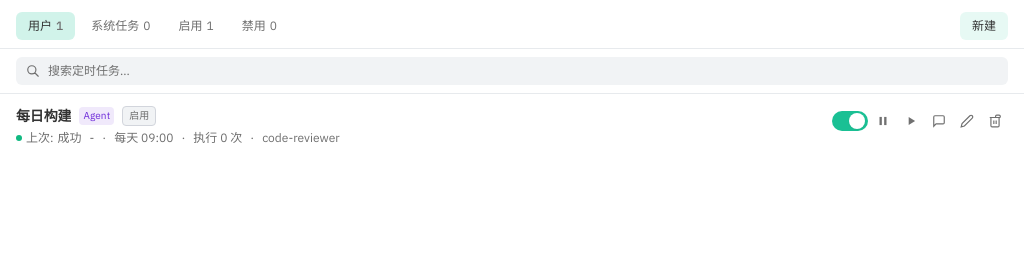
Scenario: 能力类任务：会话列表与跳转（B2） › 列出该任务的调度会话（标题 + preview），不再出现「会话列表搜索」
Click the button "每日构建 Agent 启用 上次: 成功 - · 每天 09:00 · 执行 0 次 · code-reviewer": coordinates (44, 116) [16,106,820,146]
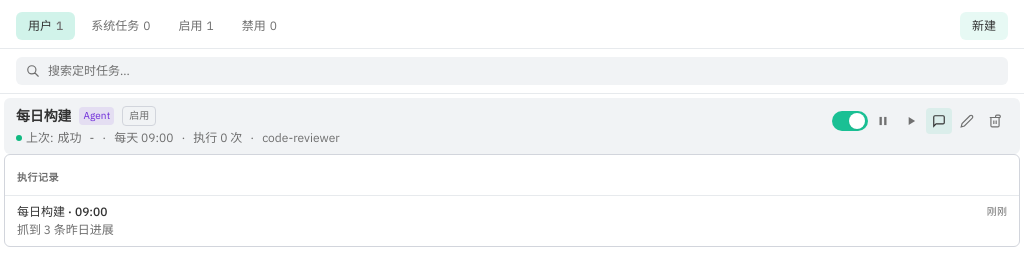
expect the text "每日构建 · 09:00" is shown: met, box [17,204,108,220]
expect the text "抓到 3 条昨日进展" is shown: met, box [17,222,114,237]
